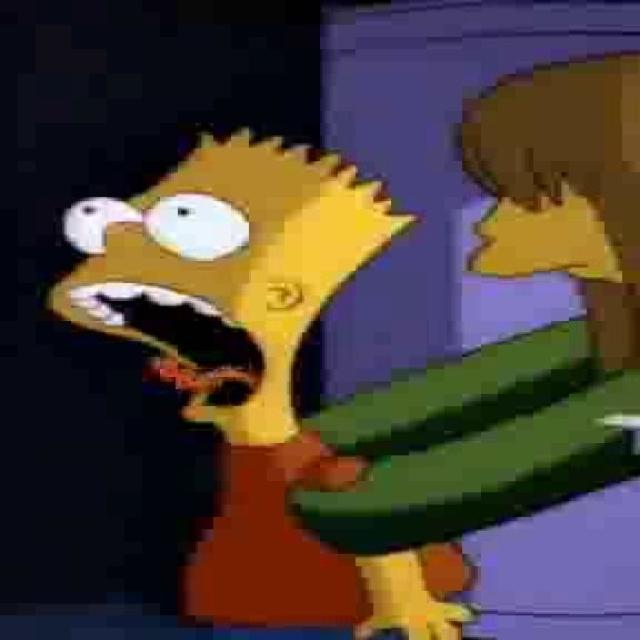Bart Simpson: (45, 128, 422, 448)
